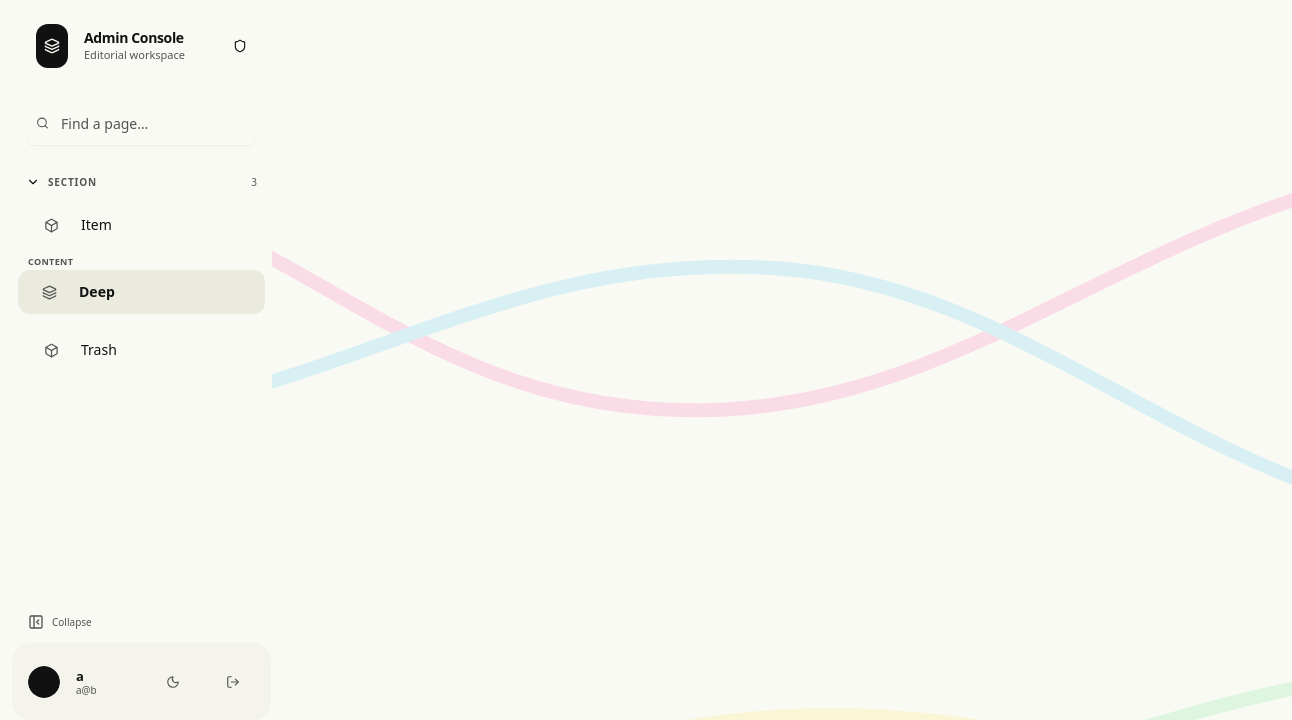
Scenario: AdminSidebar › opens a labelled section from the compact navigation rail
Click the button with aria-label "Collapse sidebar" at (142, 621), box [12,599,271,643]
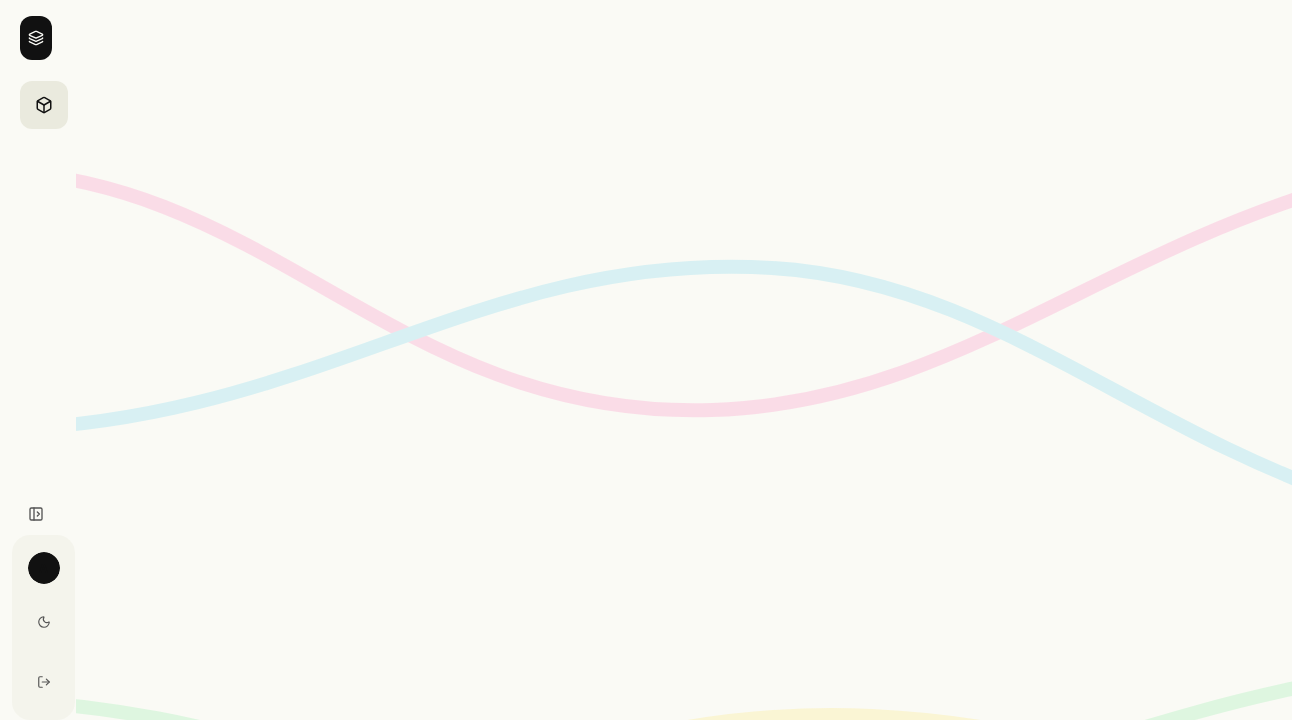
Expected: the link "Deep" is gone
Click the button named "Open Section navigation" at (44, 105), box [20,81,68,129]
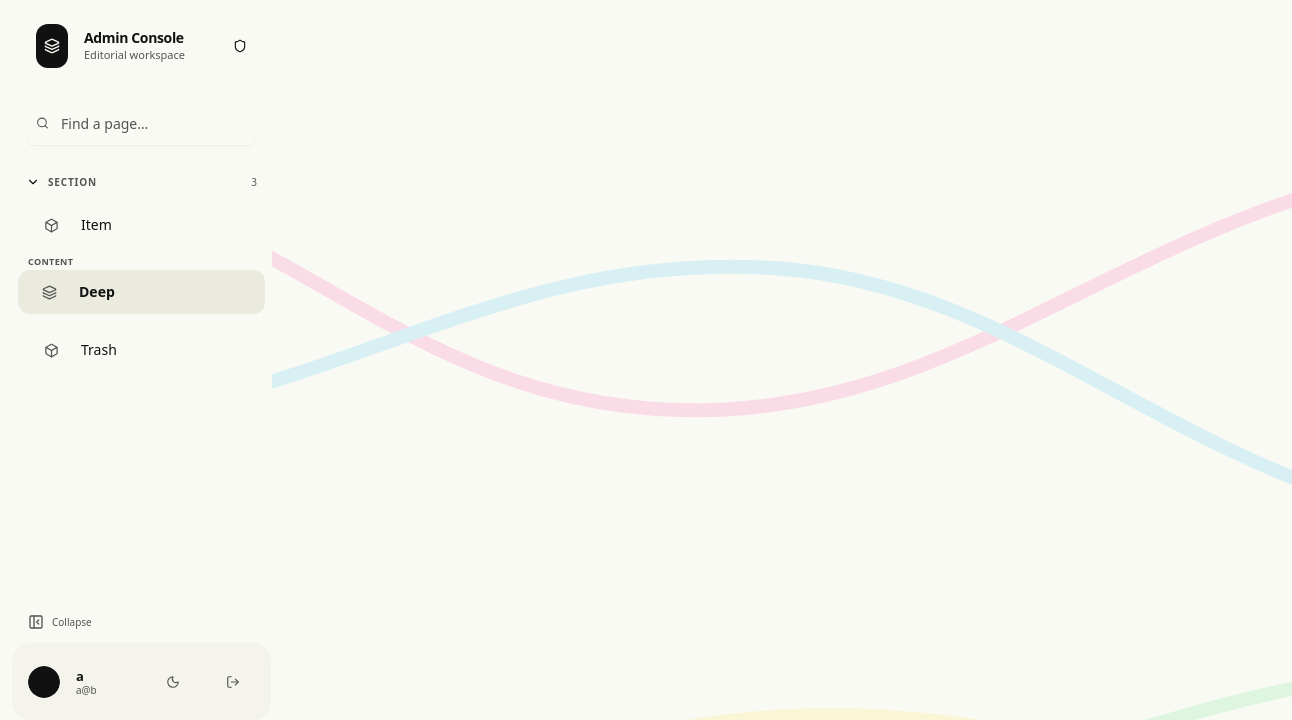
Expected: the link "Deep" is shown, [18,270,265,314]
